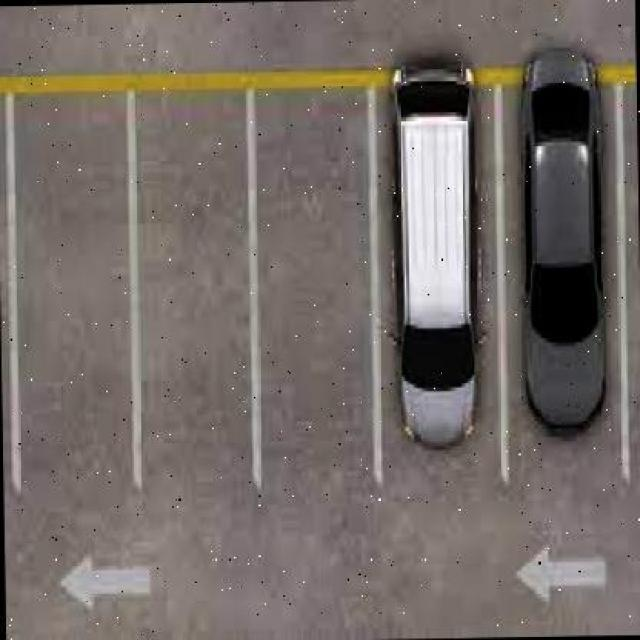Car: (386, 40, 486, 451), (518, 46, 607, 443)
Empty: (252, 89, 375, 487), (15, 92, 132, 496), (135, 95, 253, 489)
